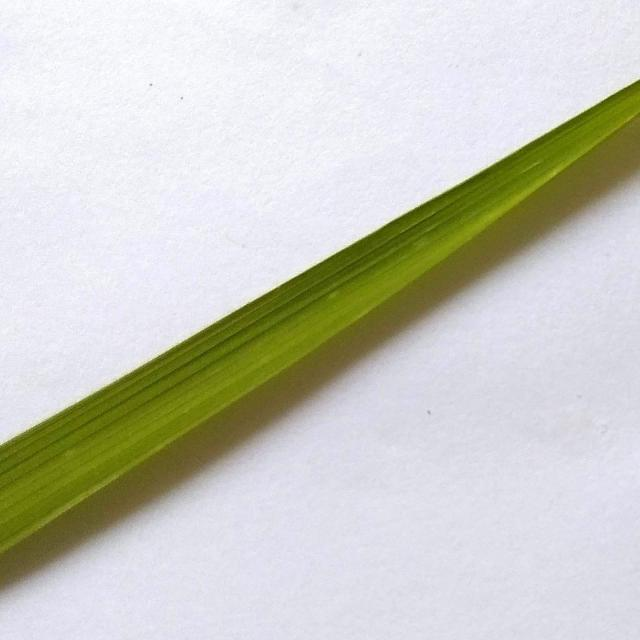healthy: (0, 77, 640, 569)
